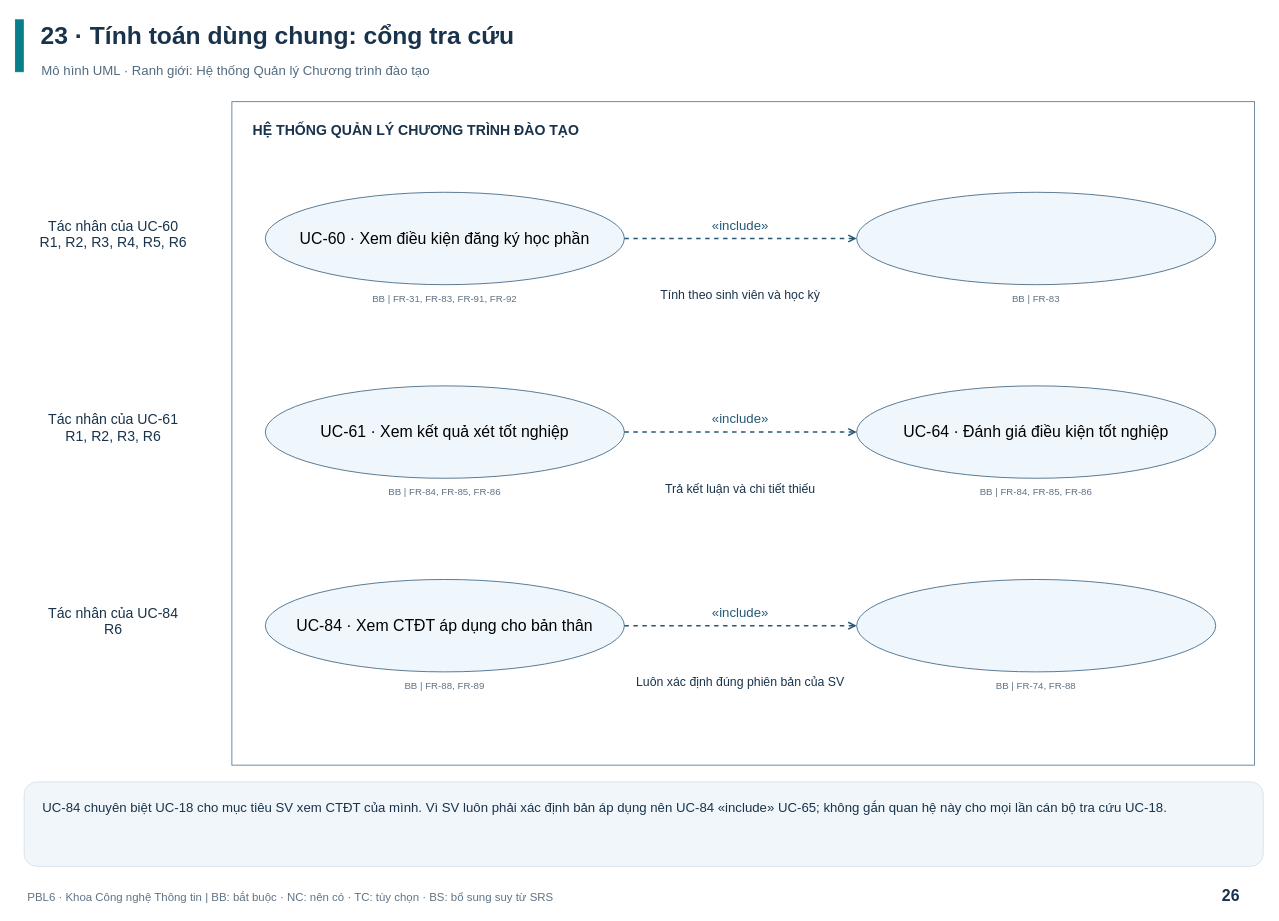
Image size: 1279x921. Some labels were removed from this diagram. The shapes that lost their labels are listed below. From the top down, each one's box as (x1, y1, x2, y2) in pixels, then its label:
(856, 191, 1216, 285): UC-63 · Tính điều kiện đăng ký
(856, 579, 1216, 672): UC-65 · Xác định phiên bản áp dụng
